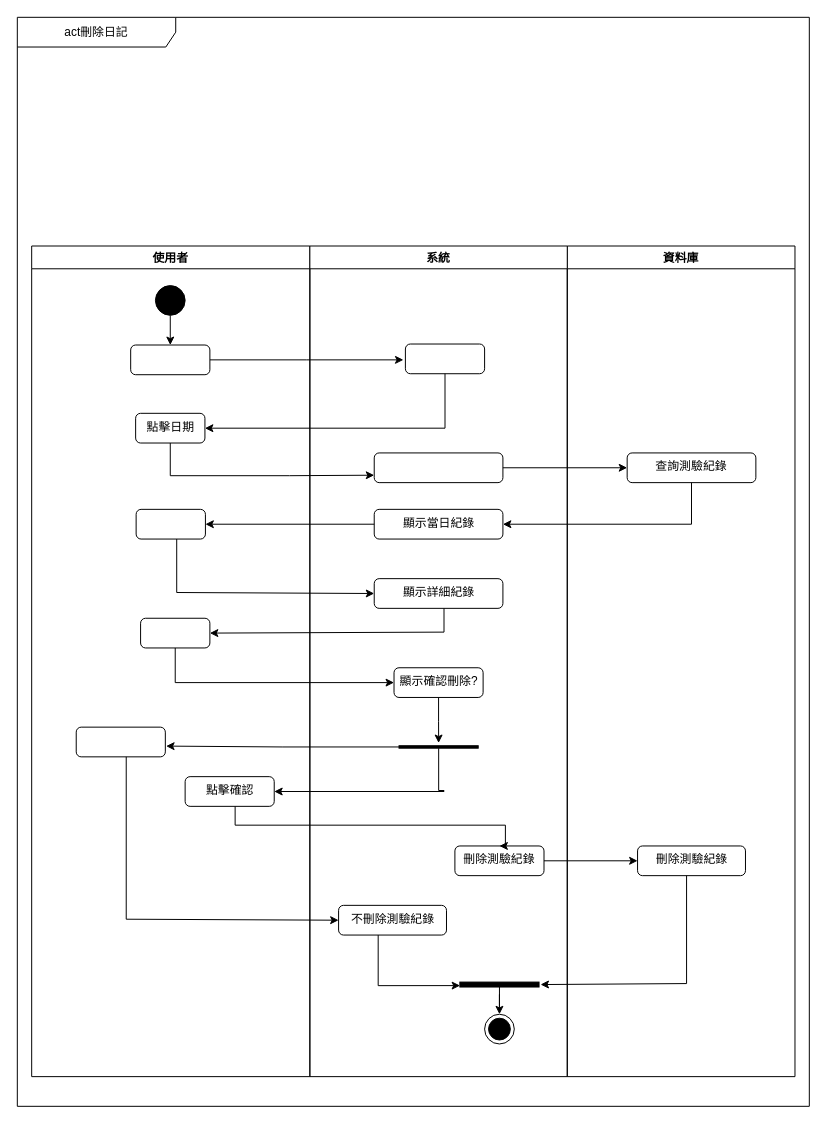
Some shapes in this 827 by 1124 pixel diagram are drawn without their labels. Here are the shapes that lost their labels. From the top down, the centre of each, then its label:
At (x=170, y=359): "點擊心情日記".
At (x=444, y=358): "顯示月曆".
At (x=438, y=467): "至資料庫查詢當日紀錄".
At (x=170, y=523): "點擊紀錄".
At (x=175, y=632): "點擊刪除".
At (x=120, y=741): "點擊取消".
